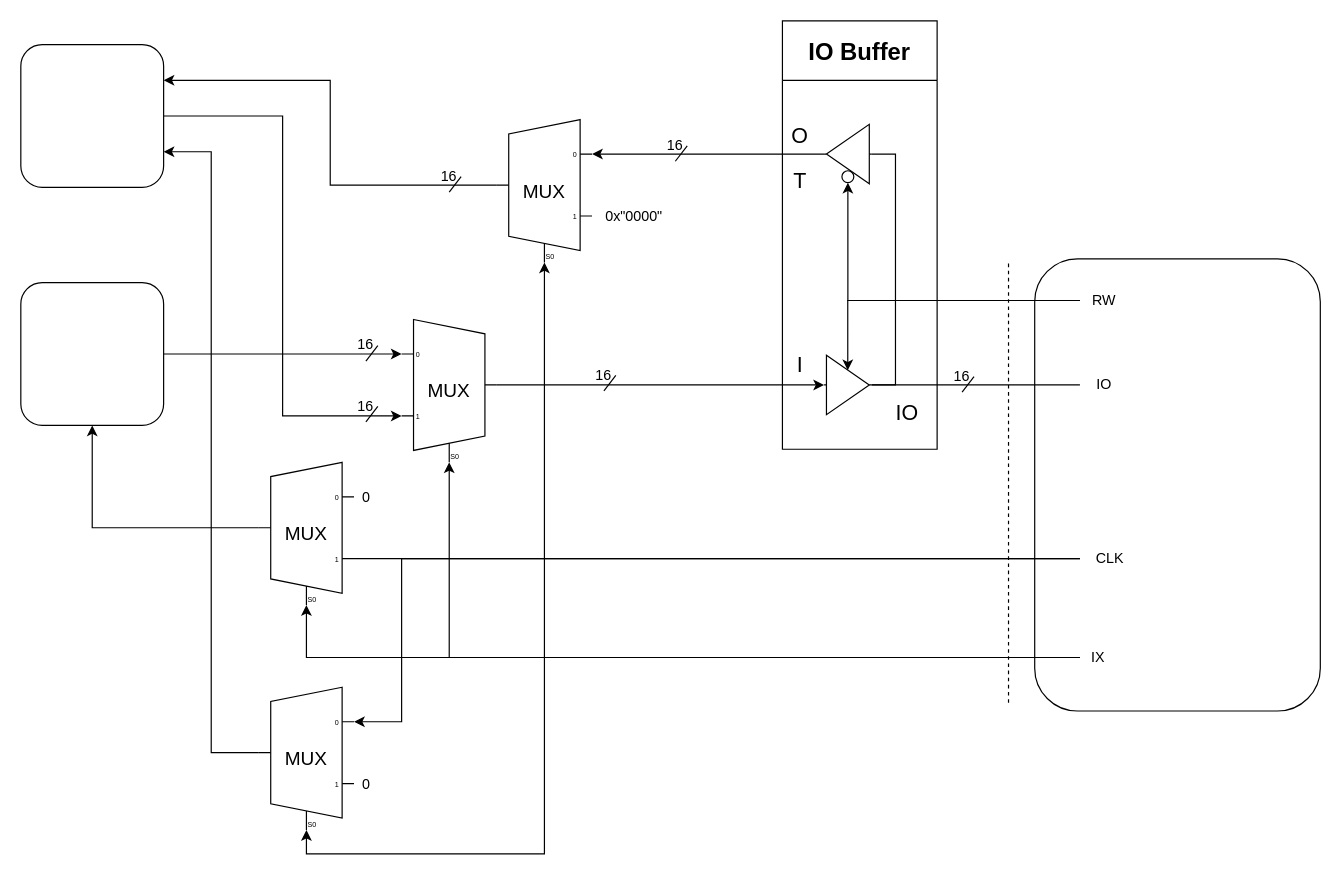
This 1341x884 diagram has some shape labels left out. Each missing label, with the box of its shape:
Internal Memory: (20, 43, 164, 187)
IV_Saver: (20, 281, 164, 425)
MCU: (1034, 258, 1320, 711)
